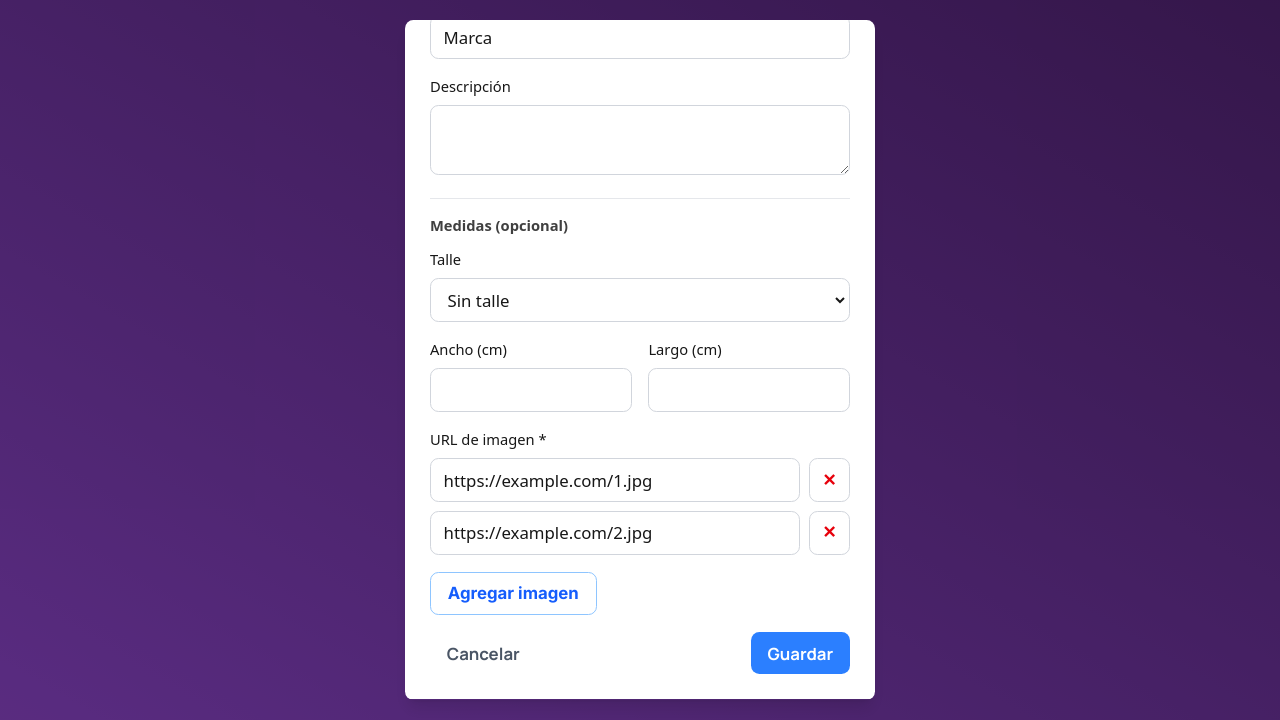
Test: ProductModal › removes an image input when clicking the remove button
(page scrolled)
Expected: the number of fields named "URL de imagen" is 2, 430,458 -> 800,502; 430,511 -> 800,555
Click the 1st button "✕" at (829, 480), box 809,458 -> 850,502
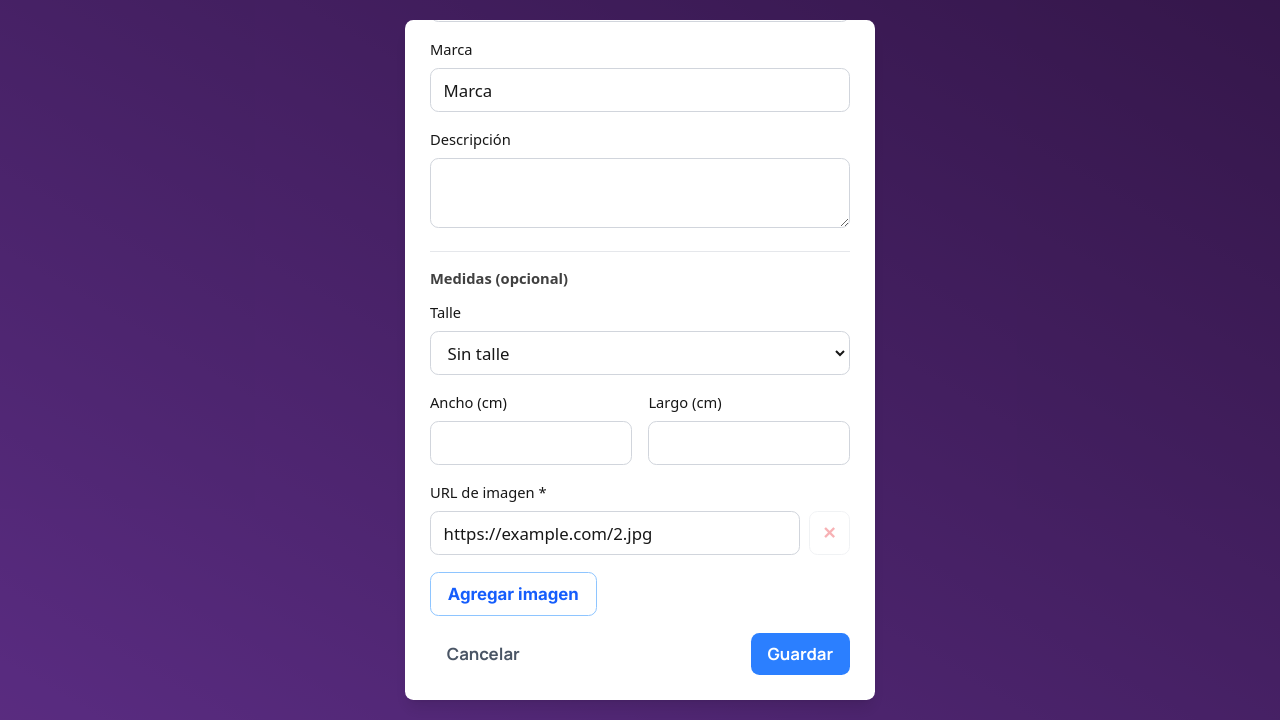
Expected: the number of fields named "URL de imagen" is 1, 430,511 -> 800,555
